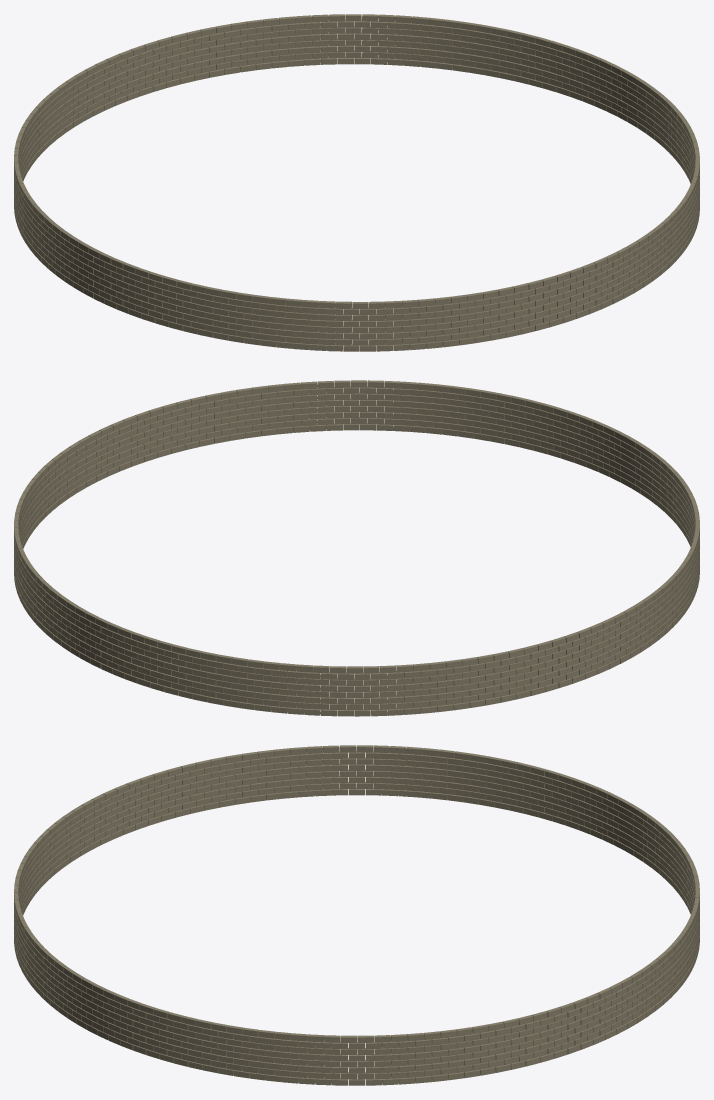
The model's file is murete.fbx.
3 renders of one model, top to bottom at view 1: azimuth 30°, elevation 25°; view 2: azimuth 150°, elevation 25°; view 3: azimuth 270°, elevation 25°, orthographic.
Parts seen in each view (by area): view 1: Cube; view 2: Cube; view 3: Cube.
Boxes of the visible parts, x1,y1,x2,y2 form: Cube: [14, 14, 699, 351]; Cube: [14, 380, 699, 716]; Cube: [14, 745, 699, 1085].
Size of the model in its own units: 5609 by 459 by 5609.
